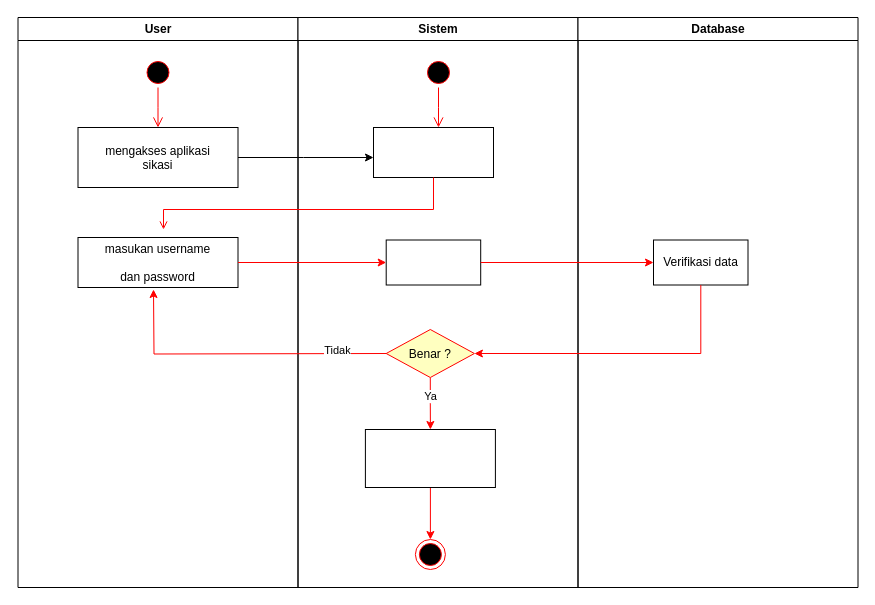
The diagram is 875 pixels wide and 605 high, and some of its shapes have lost their labels. Each missing label, with the box of its shape:
menampilkan sistem: (372, 126, 494, 178)
Request: (385, 239, 481, 285)
Tampilan menu utama sikasi: (364, 428, 495, 488)
